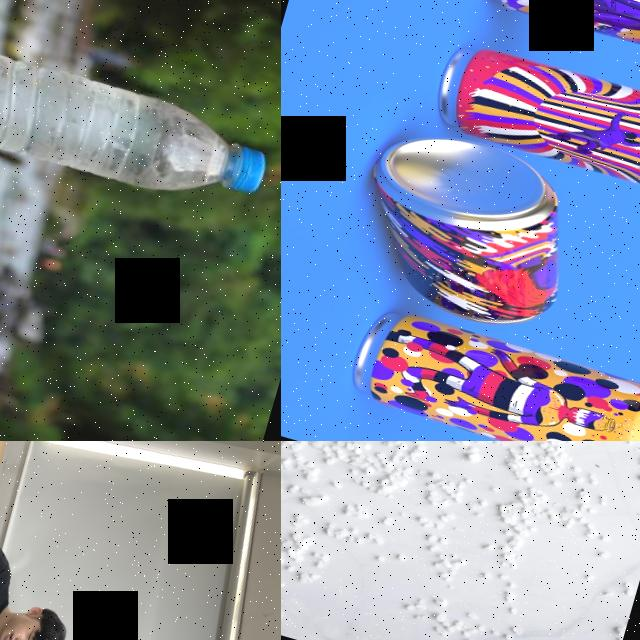bottle: (0, 16, 275, 226)
can: (337, 116, 591, 342), (342, 304, 640, 441), (426, 37, 640, 213), (467, 0, 640, 84)
